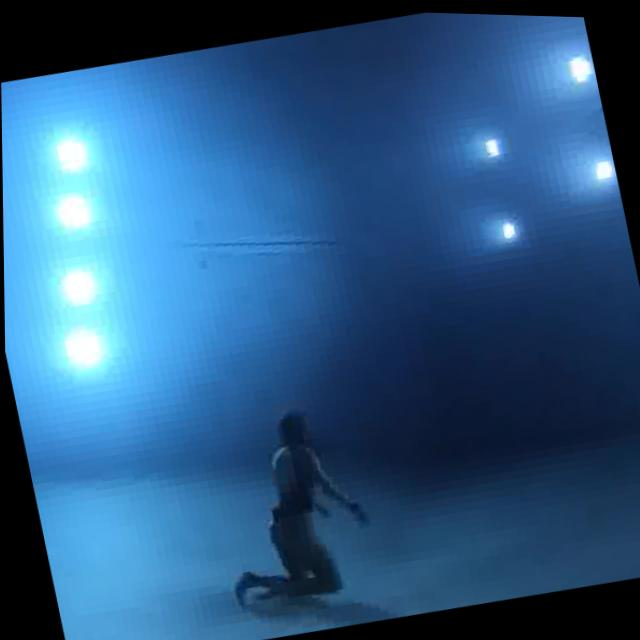human: (188, 385, 389, 618)
